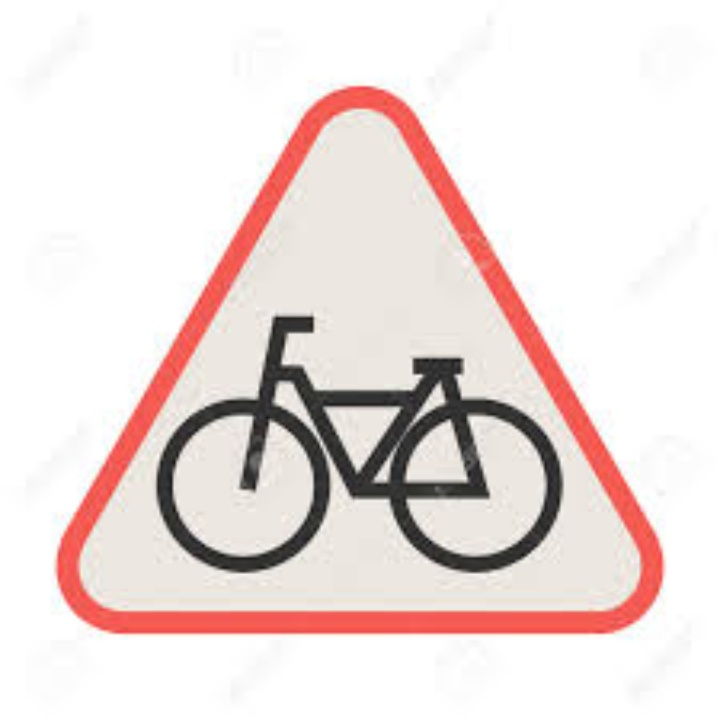bicycle: (153, 303, 569, 583)
